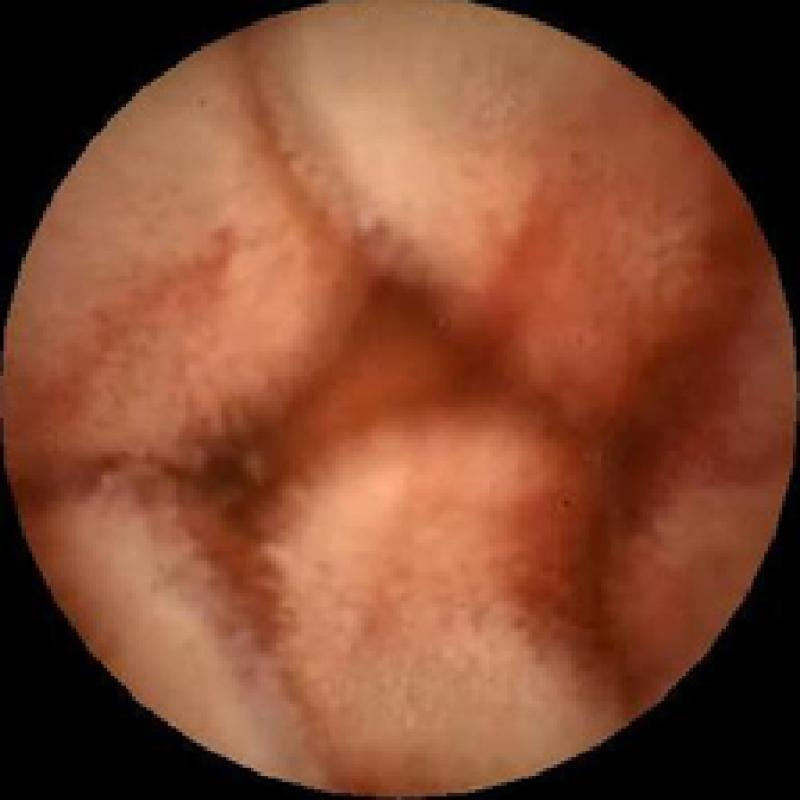bleeding: (110, 116, 690, 655)
